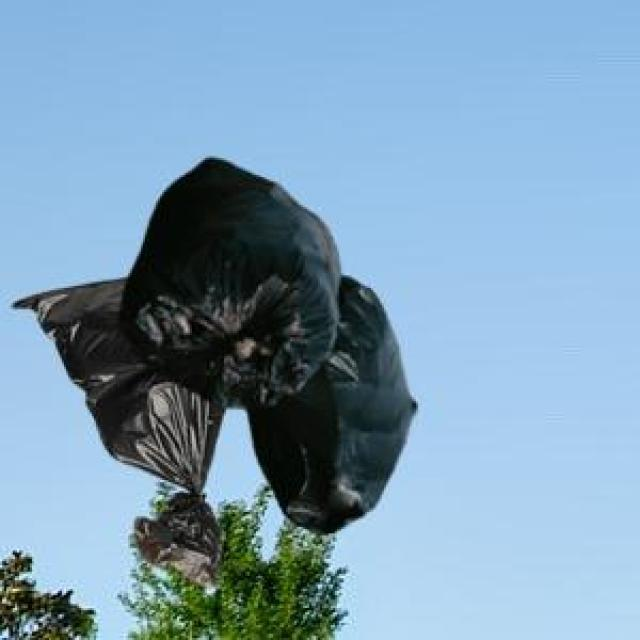Trashbag: (122, 169, 330, 384), (269, 275, 428, 536)
